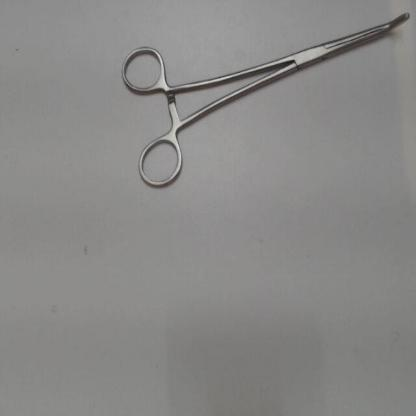Lahey Forceps: (114, 7, 412, 197)
